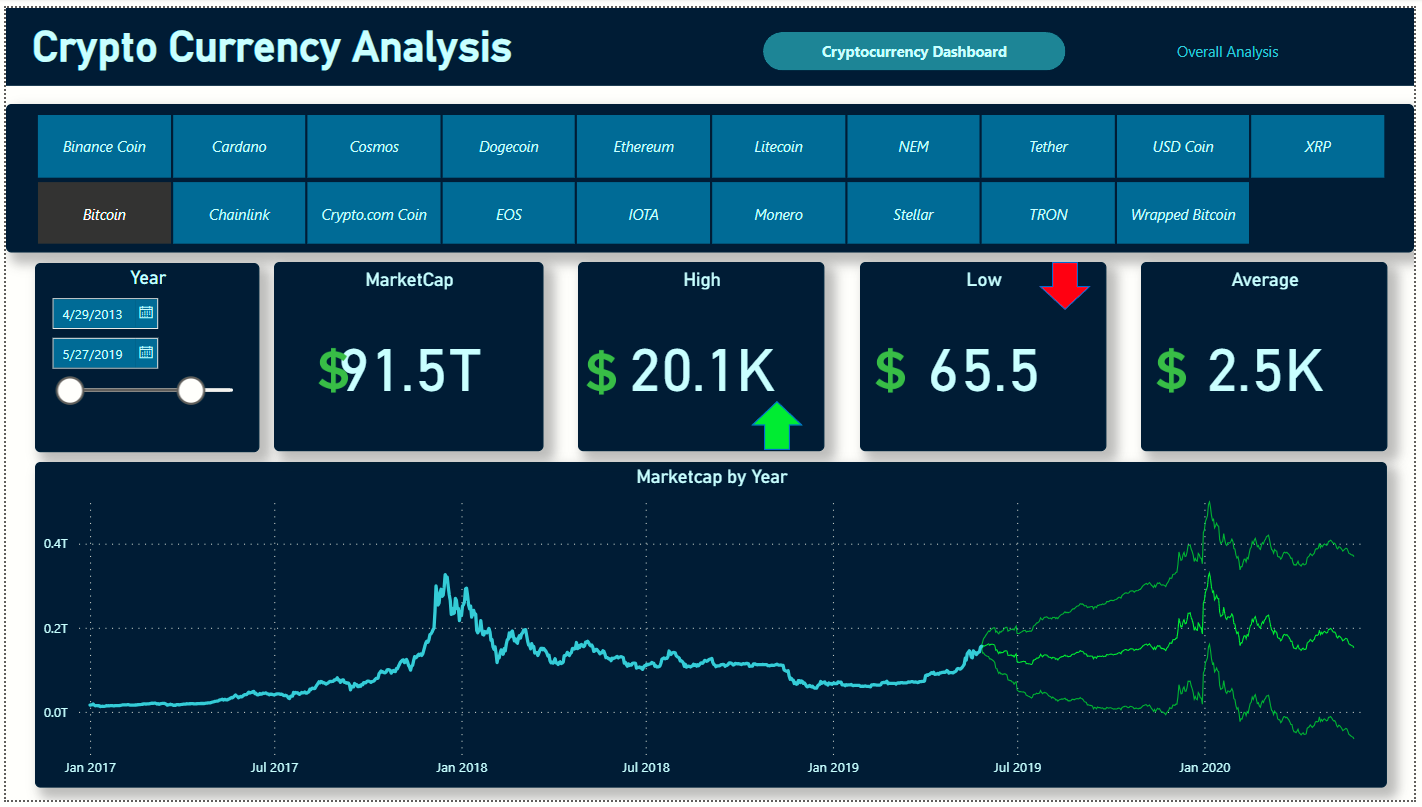

This screenshot's page, from the dashboard's own definition file:
{"tool":"powerbi","page":{"name":"Cryptocurrency Dashboard","canvas":[1280,720],"ordinal":0},"visuals":[{"type":"shape","box":[0,0,1280,70.8],"z":0},{"type":"pageNavigator","box":[688.2,21.8,560.9,35.5],"z":1000},{"type":"slicer","fields":{"Values":["CryptoData.Name"]},"box":[0,87.3,1280,135.5],"z":2000},{"type":"slicer","title":"Year","fields":{"Values":["CryptoData.Date"]},"box":[26.4,231.8,203.6,171.8],"z":3000},{"type":"lineChart","title":"Marketcap by Year","fields":{"Y":["Sum(CryptoData.Marketcap)"],"Category":["CryptoData.Date.Variation.Date Hierarchy.Year","CryptoData.Date.Variation.Date Hierarchy.Quarter","CryptoData.Date.Variation.Date Hierarchy.Month","CryptoData.Date.Variation.Date Hierarchy.Day"]},"box":[26.4,412.7,1229.1,296.4],"z":4000},{"type":"card","title":"MarketCap","fields":{"Values":["Sum(CryptoData.Marketcap)"]},"box":[243.6,230.9,244.5,171.8],"z":5000},{"type":"card","title":"High","fields":{"Values":["Max(CryptoData.High)"]},"box":[520.3,230.9,223.6,171.8],"z":6000},{"type":"card","title":"Low","fields":{"Values":["Min(CryptoData.Low)"]},"box":[776.1,230.9,223.6,171.8],"z":7000},{"type":"card","title":"Average","fields":{"Values":["Avg(CryptoData.Close)"]},"box":[1031.8,230.9,223.6,171.8],"z":8000},{"type":"image","box":[270,301.8,55.5,55.5],"z":9000},{"type":"image","box":[513.6,303.6,55.5,55.5],"z":10000},{"type":"image","box":[776.4,301.8,55.5,55.5],"z":11000},{"type":"image","box":[1031.8,301.8,55.5,55.5],"z":12000},{"type":"shape","box":[677.3,357.3,47.3,44.5],"z":13000},{"type":"shape","box":[939.1,230.9,47.3,43.6],"z":14000},{"type":"textbox","box":[19.1,7.3,500.9,55.5],"z":14001}]}

Visuals, with their boxes in screenshot pixels (x1, y1, x2, y2), scaled from the page's 1280x720 canvas onto the 1422x807 screenshot:
shape: 0:0:1421:79
pageNavigator: 765:24:1388:64
slicer - CryptoData.Name: 0:98:1421:250
"Year" slicer: 29:260:256:452
"Marketcap by Year" lineChart: 29:463:1395:795
"MarketCap" card: 271:259:542:451
"High" card: 578:259:826:451
"Low" card: 862:259:1111:451
"Average" card: 1146:259:1395:451
image: 300:338:362:400
image: 571:340:632:402
image: 863:338:924:400
image: 1146:338:1208:400
shape: 752:400:805:450
shape: 1043:259:1096:308
textbox: 21:8:578:70
